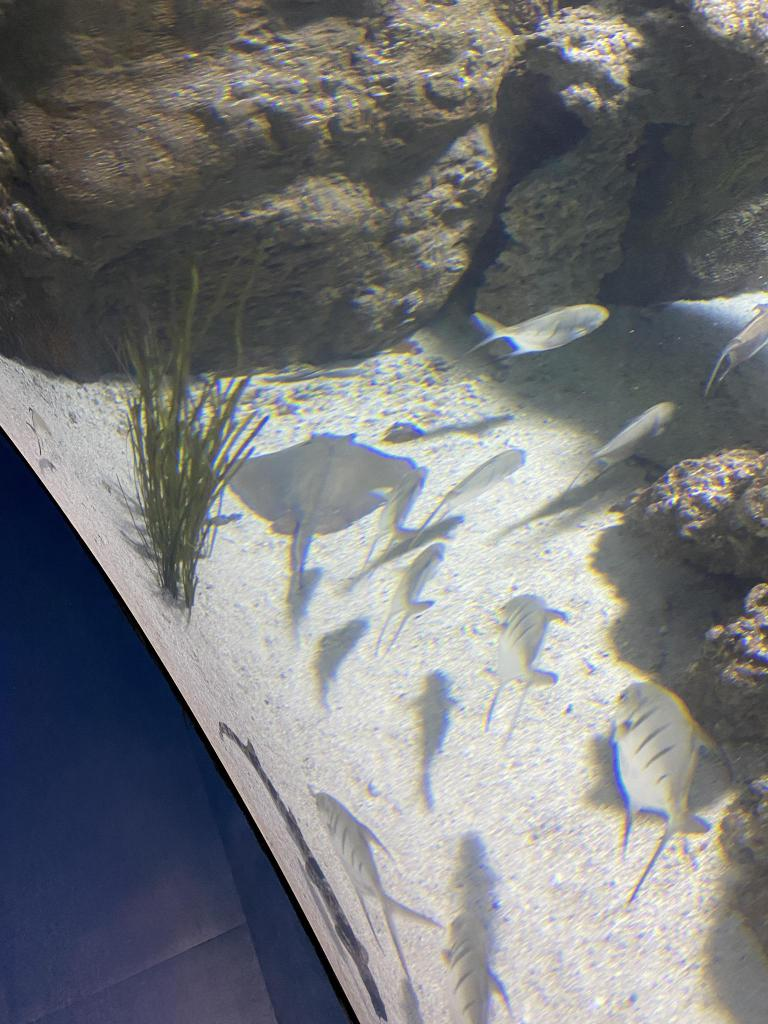fish: (604, 680, 716, 856), (473, 590, 574, 734), (404, 440, 528, 552), (558, 392, 676, 500), (462, 300, 612, 362), (373, 536, 446, 656), (359, 462, 430, 582), (705, 300, 767, 400)
stingray: (218, 430, 412, 540)
